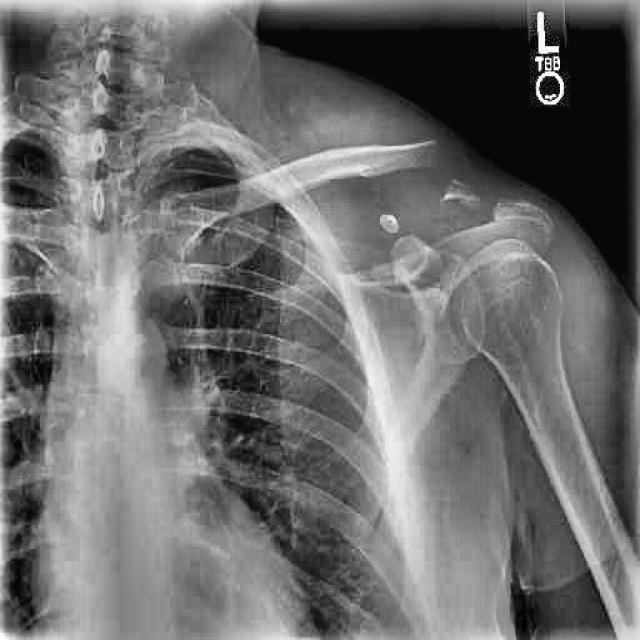shoulder fracture: (426, 162, 550, 241)
